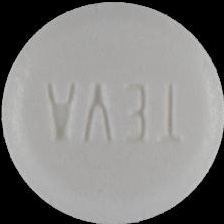0172-3925: (0, 0, 224, 224)
